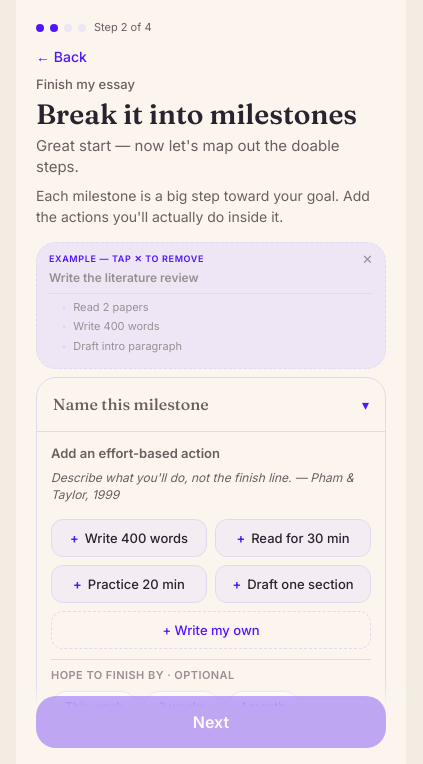
Test: Next is disabled until at least one action exists
Expected: the button "Next" is disabled, [36, 696, 386, 748]
Click the button "Read for 30 min" at [293, 538], box [215, 519, 371, 557]
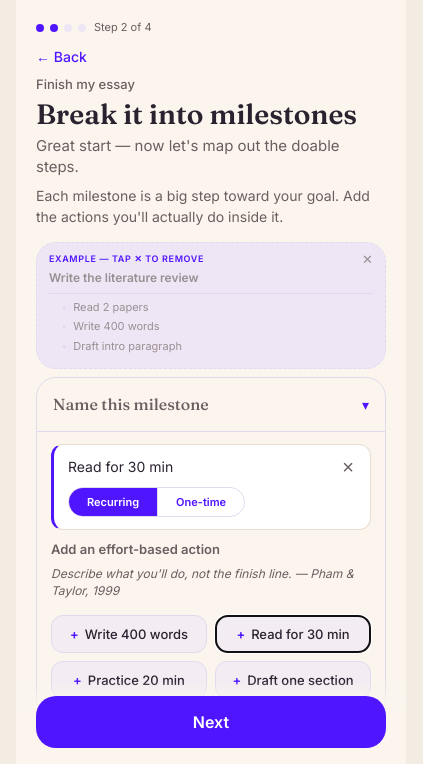
Result: the button "Next" is enabled at [36, 696, 386, 748]
